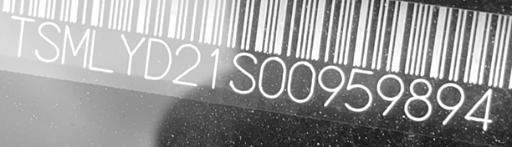letter: (432, 78, 464, 129), (463, 83, 495, 134), (401, 75, 433, 125), (225, 45, 255, 96), (284, 56, 314, 107), (344, 65, 372, 118), (88, 26, 116, 79), (316, 62, 346, 111), (257, 54, 287, 103), (9, 12, 37, 63), (143, 35, 171, 86), (174, 40, 202, 91), (374, 72, 400, 123), (117, 31, 143, 82), (34, 18, 60, 67), (62, 22, 88, 70), (201, 44, 225, 93)
